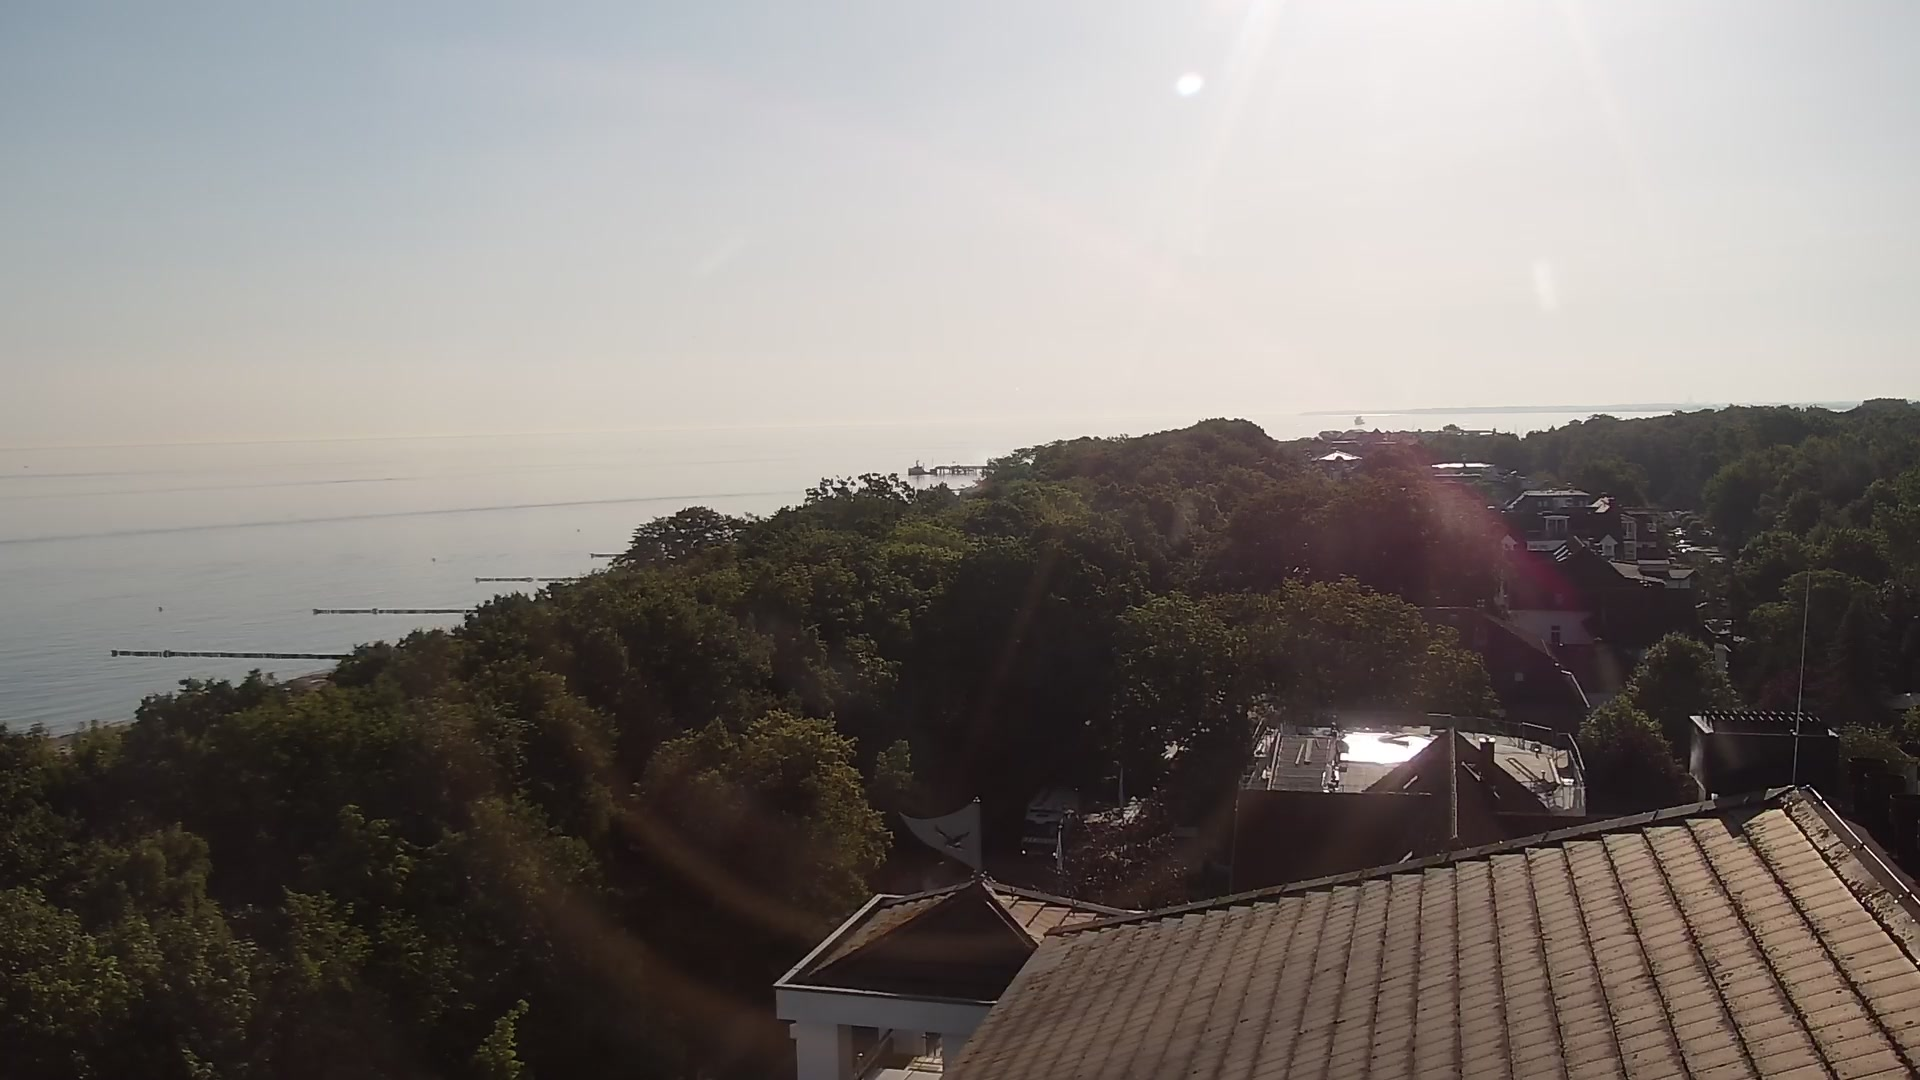sea: (906, 460, 934, 476), (1443, 422, 1461, 433), (1353, 415, 1365, 425)
